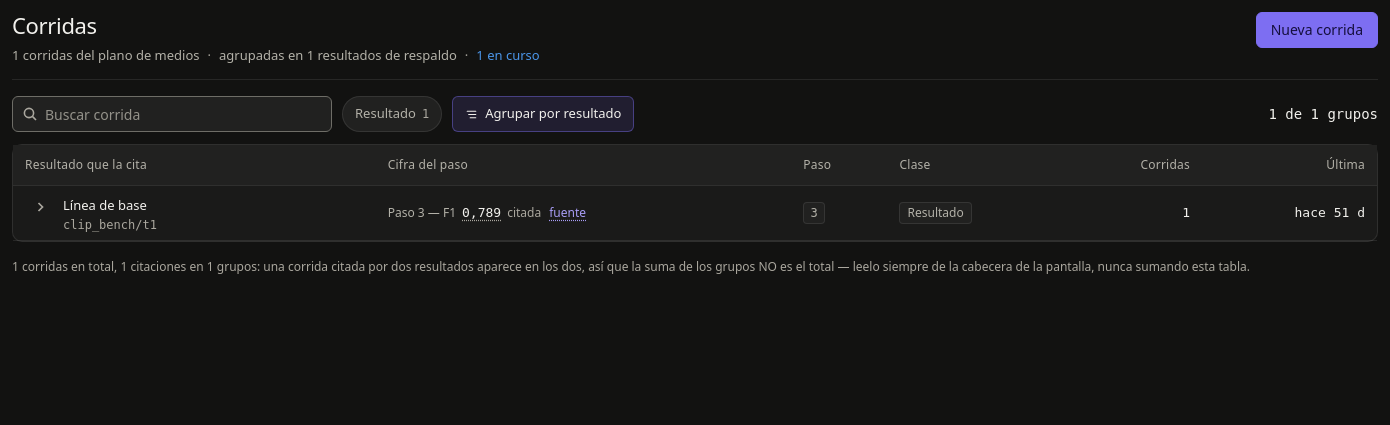
Test: Corridas agrupadas: expansión y subtabla accesibles › el grupo se abre con un botón con aria-expanded; la subtabla tiene sus propios encabezados y enlaces
Click the button named "Mostrar las corridas de Línea de base" at (40, 206), box [25,192,55,222]
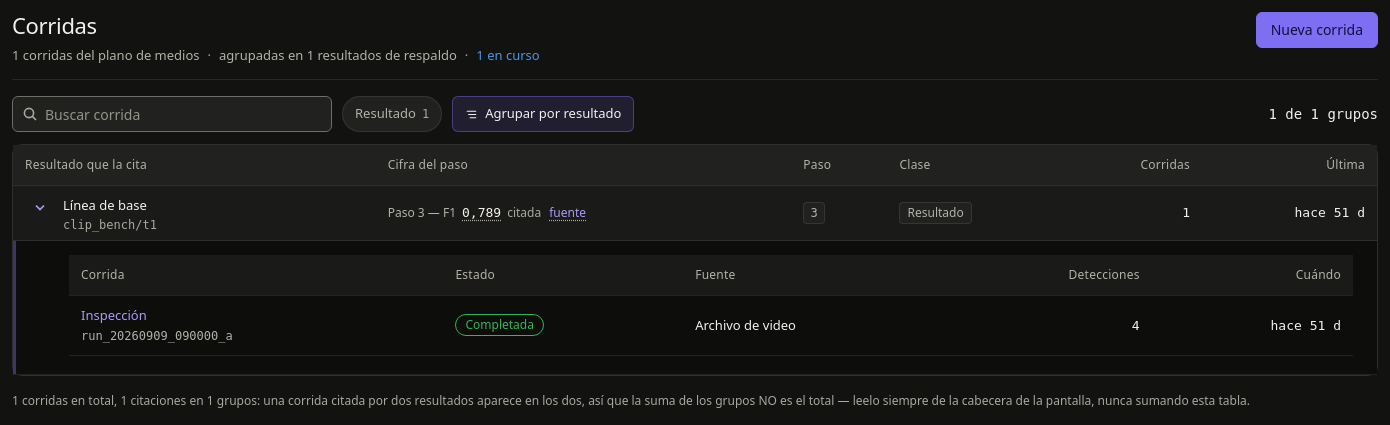
expect the button named "Ocultar las corridas de Línea de base" is expanded: met, box [25,192,55,222]
expect the column headings read "Corrida", "Estado", "Fuente", "Detecciones", "Cuándo", in this order: met, box [69,255,444,295]; [444,255,683,295]; [683,255,949,295]; [949,255,1152,295]; [1152,255,1353,295]
